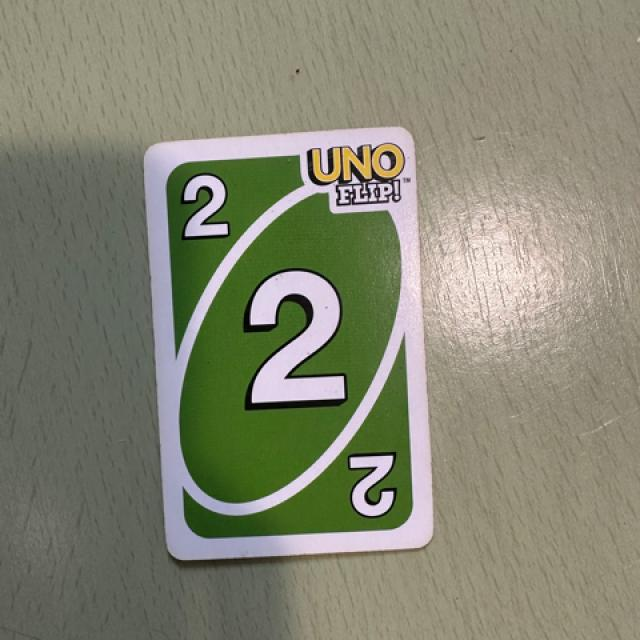lgreen-2: (155, 157, 260, 255)
